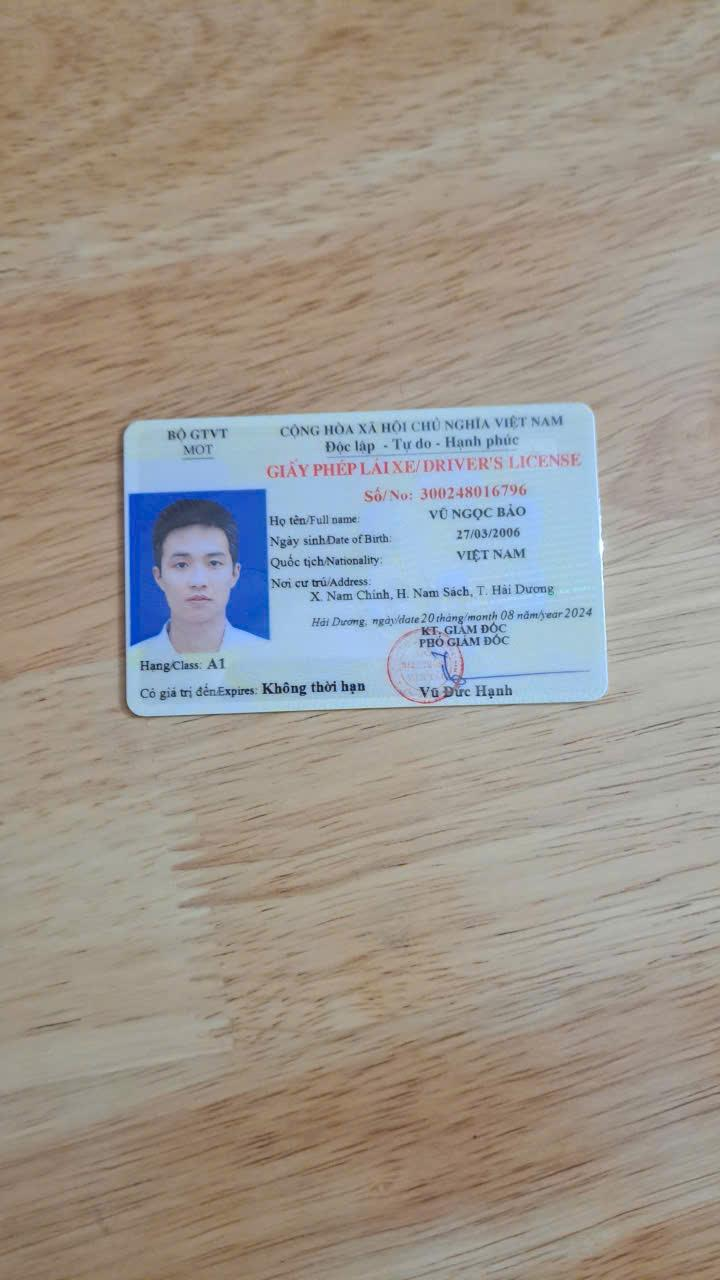gplx: (118, 399, 620, 722)
